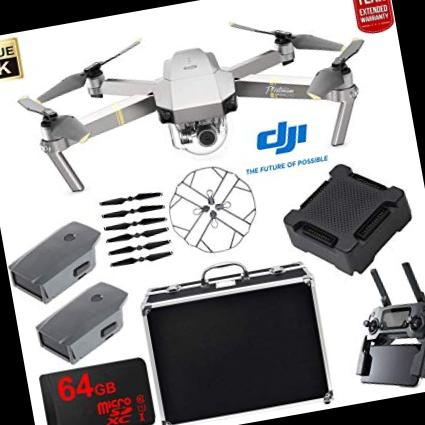drone: (0, 0, 390, 220)
